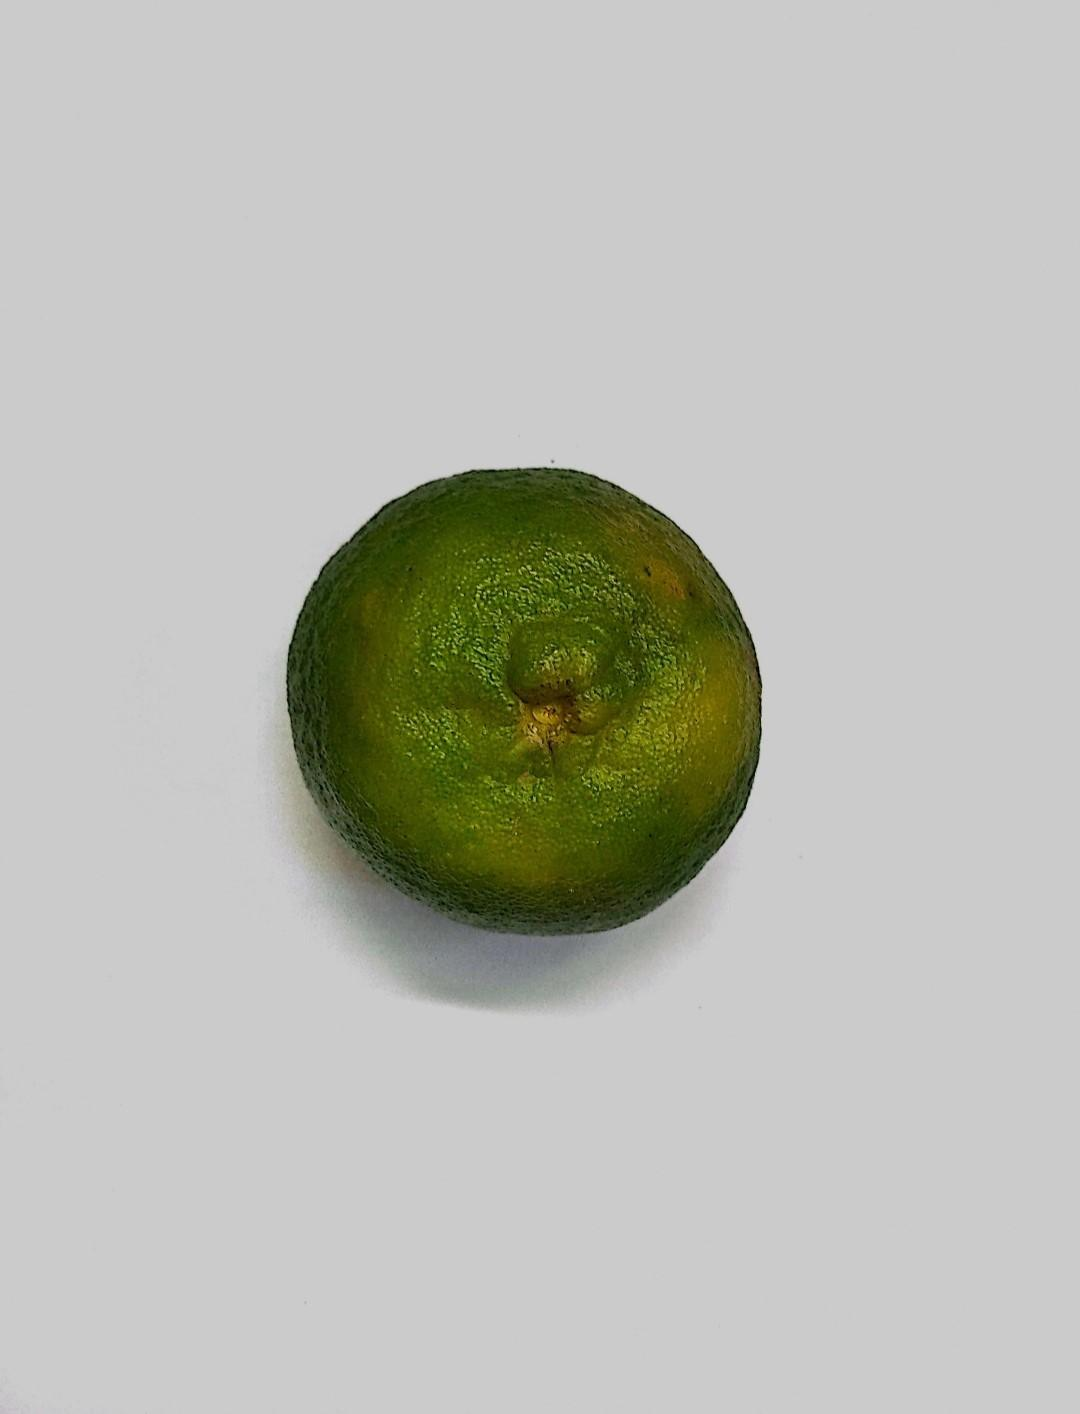Unripe: (294, 476, 767, 916)
